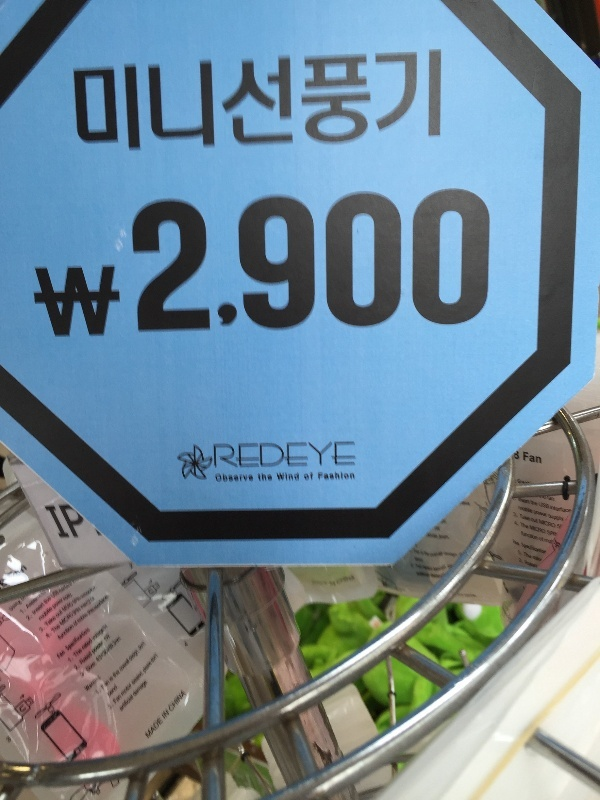text: (33, 180, 48, 344), (49, 180, 64, 344), (65, 180, 80, 344), (81, 180, 96, 344), (97, 180, 112, 344), (113, 180, 128, 344), (129, 180, 144, 344), (145, 180, 160, 344), (161, 180, 176, 344), (177, 180, 192, 344), (193, 180, 208, 344), (209, 180, 224, 344), (225, 180, 240, 344), (241, 180, 256, 344), (257, 180, 272, 344), (273, 180, 288, 344), (289, 180, 304, 344), (305, 180, 320, 344), (321, 180, 336, 344), (337, 180, 352, 344), (353, 180, 368, 344), (369, 180, 384, 344), (385, 180, 400, 344), (401, 180, 416, 344), (417, 180, 432, 344), (433, 180, 448, 344), (449, 180, 464, 344), (465, 180, 480, 344), (18, 180, 32, 344), (81, 46, 96, 158), (97, 46, 112, 158), (113, 46, 128, 158), (129, 46, 144, 158), (145, 46, 160, 158), (161, 46, 176, 158), (177, 46, 192, 158), (193, 46, 208, 158), (209, 46, 224, 158), (225, 46, 240, 158), (241, 46, 256, 158), (257, 46, 272, 158), (273, 46, 288, 158), (289, 46, 304, 158), (305, 46, 320, 158), (321, 46, 336, 158), (337, 46, 352, 158), (353, 46, 368, 158), (369, 46, 384, 158), (385, 46, 400, 158), (401, 46, 416, 158), (417, 46, 432, 158), (481, 180, 491, 344), (433, 46, 445, 158), (70, 46, 80, 158), (49, 502, 64, 546), (65, 502, 80, 546), (81, 502, 95, 546), (97, 633, 112, 666), (65, 625, 80, 656), (225, 440, 240, 470), (241, 440, 256, 470), (257, 440, 272, 470), (273, 440, 288, 470), (289, 440, 304, 470), (305, 440, 320, 470), (321, 440, 336, 470), (337, 440, 352, 470), (145, 715, 160, 740), (81, 584, 97, 607), (113, 633, 124, 666), (113, 682, 128, 706), (49, 577, 64, 601), (65, 577, 80, 601), (97, 591, 110, 618), (81, 625, 92, 656), (213, 440, 224, 470), (145, 653, 159, 675), (177, 689, 188, 715), (97, 622, 110, 644), (81, 595, 97, 612), (321, 573, 336, 591), (337, 573, 352, 591), (81, 636, 96, 654), (86, 591, 96, 618), (67, 604, 80, 624), (133, 677, 144, 700), (84, 673, 96, 694), (167, 689, 176, 715), (131, 670, 144, 687), (81, 650, 94, 667), (51, 597, 64, 614), (529, 541, 544, 555), (38, 603, 48, 624), (33, 601, 46, 617), (84, 658, 96, 675), (67, 651, 80, 666), (529, 451, 542, 466), (100, 678, 112, 694), (72, 584, 80, 607), (18, 703, 32, 716), (51, 622, 64, 636), (161, 708, 176, 720), (119, 693, 128, 713), (65, 622, 74, 642), (65, 598, 75, 616), (129, 648, 140, 664), (44, 502, 48, 546), (119, 656, 128, 675), (147, 585, 160, 598), (514, 449, 528, 461), (321, 471, 336, 482), (337, 471, 352, 482), (257, 472, 272, 483), (225, 473, 240, 484), (311, 573, 320, 591), (56, 622, 64, 642), (49, 611, 57, 631), (276, 470, 288, 483), (289, 470, 301, 483), (36, 588, 48, 601), (82, 670, 96, 681), (72, 610, 80, 629), (529, 524, 544, 534), (417, 547, 432, 557), (433, 547, 448, 557), (449, 547, 464, 557), (417, 570, 432, 580), (129, 562, 144, 572), (241, 473, 254, 484), (113, 682, 120, 702), (8, 597, 16, 614), (417, 563, 432, 572), (433, 563, 448, 572), (81, 610, 88, 629), (433, 570, 446, 580), (98, 687, 112, 696), (97, 673, 103, 694), (97, 639, 104, 657), (55, 606, 64, 620), (513, 538, 528, 546), (106, 682, 112, 702), (56, 647, 64, 662), (65, 590, 73, 604), (33, 595, 40, 611), (91, 622, 96, 644), (22, 606, 32, 617), (561, 504, 572, 514), (305, 471, 314, 483), (529, 530, 538, 542), (103, 632, 112, 644), (433, 532, 448, 539), (73, 646, 80, 661), (49, 603, 54, 624), (113, 667, 121, 680), (17, 597, 23, 614), (518, 505, 528, 515), (545, 519, 555, 529), (161, 715, 165, 740), (129, 693, 134, 713), (550, 504, 560, 514), (215, 473, 224, 484), (530, 517, 544, 524), (521, 541, 528, 555), (129, 682, 133, 706), (26, 595, 32, 611), (20, 595, 32, 603), (145, 677, 149, 700), (547, 530, 560, 537), (9, 734, 16, 747), (137, 640, 144, 653), (353, 440, 356, 470), (513, 512, 528, 518), (91, 639, 96, 657), (23, 564, 32, 574), (533, 510, 544, 518), (530, 500, 544, 506), (548, 514, 560, 521), (514, 520, 528, 526), (521, 530, 528, 542), (436, 525, 448, 532), (44, 611, 48, 631), (40, 624, 48, 634), (547, 496, 560, 502), (533, 555, 544, 562), (43, 593, 48, 608), (523, 451, 528, 466), (519, 497, 528, 505), (519, 513, 528, 521), (353, 573, 357, 591), (184, 640, 192, 649), (517, 478, 528, 484), (59, 616, 64, 629), (520, 522, 528, 530), (417, 556, 425, 564), (518, 557, 528, 563), (417, 543, 432, 547), (465, 593, 477, 598), (49, 593, 53, 608), (530, 562, 544, 566), (27, 696, 32, 707), (107, 674, 112, 685), (410, 563, 416, 572), (61, 598, 64, 616), (97, 528, 103, 537), (539, 519, 544, 529), (518, 550, 528, 555), (538, 502, 544, 510), (49, 630, 53, 642), (81, 577, 83, 601), (449, 563, 454, 572), (81, 646, 84, 661), (517, 498, 528, 502), (142, 653, 144, 675), (545, 502, 550, 510), (529, 505, 533, 515), (523, 551, 528, 559), (412, 547, 416, 557), (411, 556, 416, 564), (113, 700, 116, 713), (65, 616, 68, 629), (129, 656, 131, 675), (545, 538, 551, 544), (538, 536, 544, 542), (77, 662, 80, 674), (317, 471, 320, 482), (353, 471, 356, 482), (113, 674, 116, 685), (458, 593, 464, 598), (65, 647, 67, 662), (29, 613, 32, 623), (524, 559, 528, 566), (62, 590, 64, 604), (110, 700, 112, 713), (145, 640, 147, 653), (465, 501, 470, 506), (529, 551, 532, 559), (429, 532, 432, 539), (539, 496, 544, 500), (556, 516, 560, 521), (443, 520, 448, 524), (79, 650, 80, 667), (79, 595, 80, 612), (524, 481, 528, 485), (545, 510, 547, 518), (545, 541, 546, 555), (449, 532, 451, 539), (49, 588, 50, 601), (513, 498, 517, 501), (558, 523, 560, 529), (81, 662, 82, 674), (545, 524, 546, 534), (33, 613, 34, 623), (95, 528, 96, 537), (529, 497, 530, 505), (529, 513, 530, 521), (529, 559, 530, 566), (463, 501, 464, 506), (529, 481, 530, 485), (545, 496, 546, 500)
